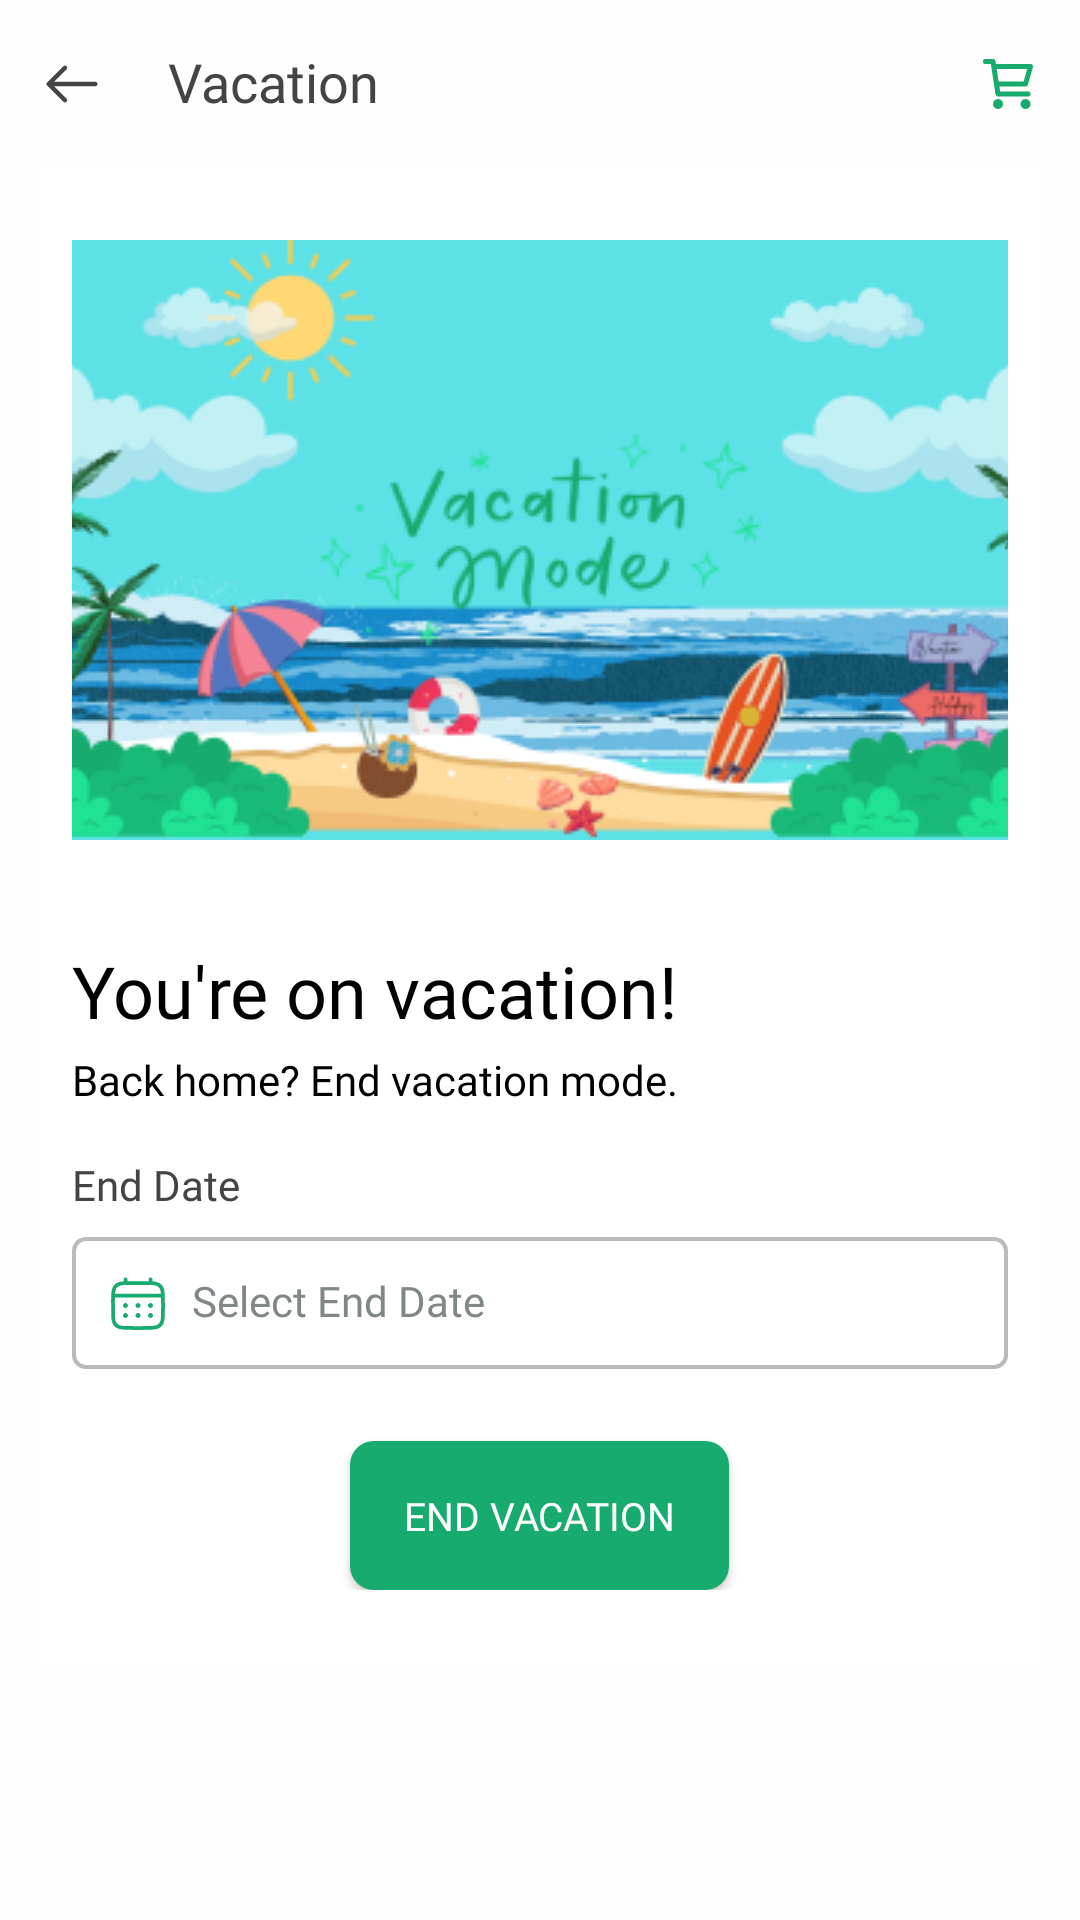

Where icons sit on this 1080px x 1920px app screen, as (x1, y1, x2, y2):
Back Button: (46, 65, 98, 103)
Cart Icon: (983, 59, 1033, 109)
